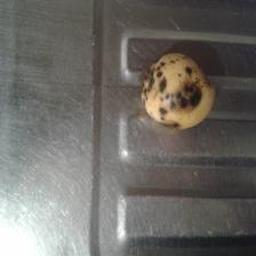Mango Rotten: (132, 54, 223, 143)
